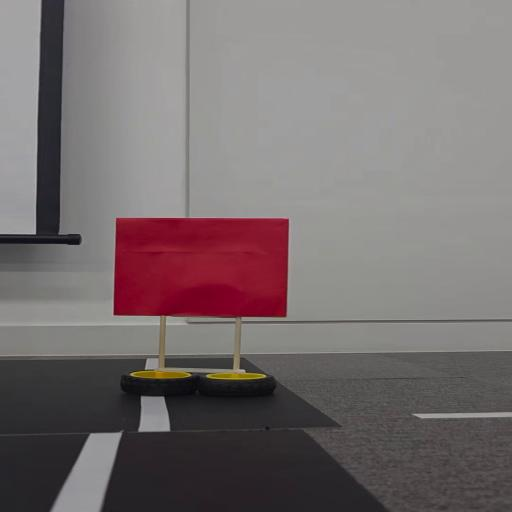Sign_A: (114, 213, 306, 399)
